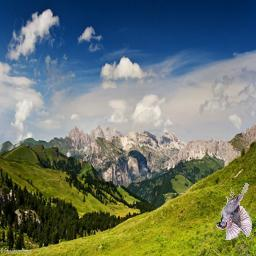Sparrow: (216, 184, 253, 241)
